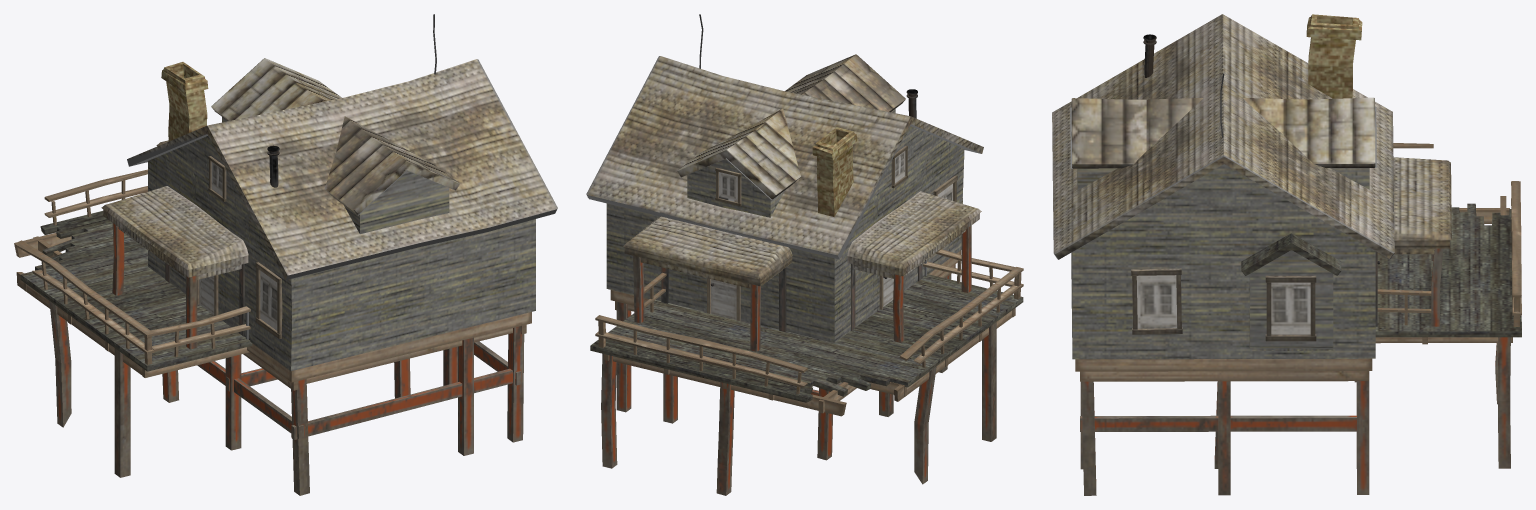
The model's file is cliff_raw.glb.
3 renders of one model, left to right at view 1: azimuth 30°, elevation 25°; view 2: azimuth 150°, elevation 25°; view 3: azimuth 270°, elevation 25°, orthographic. The views are drawn at different scales.
Parts seen in each view (by area): view 1: Cube_014_house_0; view 2: Cube_014_house_0; view 3: Cube_014_house_0.
Part boxes in pixels (bbox=[...]): Cube_014_house_0: bbox=[14, 14, 557, 495]; Cube_014_house_0: bbox=[586, 14, 1023, 495]; Cube_014_house_0: bbox=[1052, 14, 1521, 495].
Size of the model in its own units: 79.66 by 78.7 by 81.7.
1 material, 1 textured.
